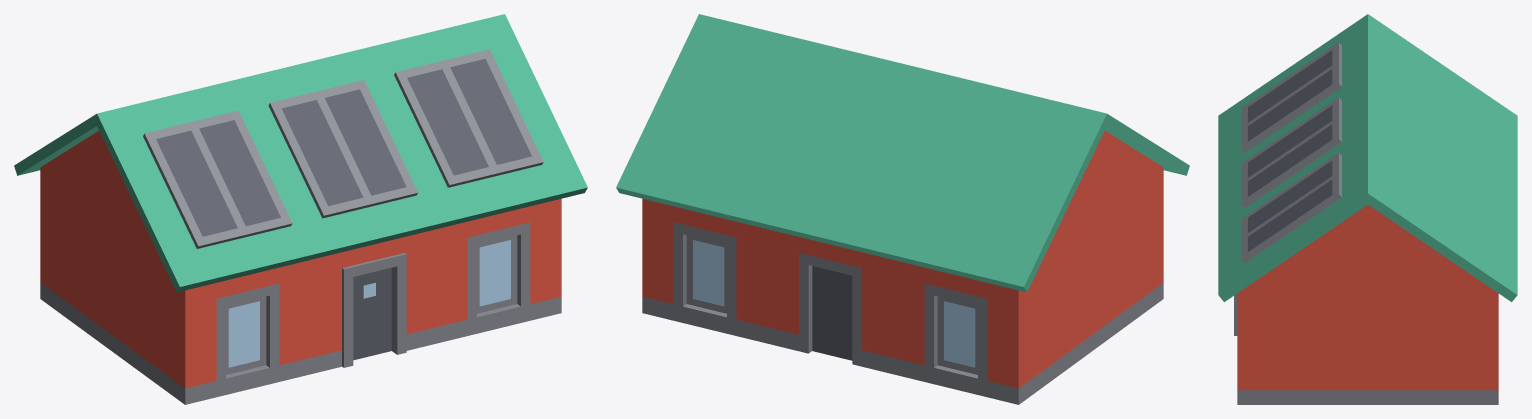
The model's file is House Type 01.glb.
3 renders of one model, left to right at view 1: azimuth 30°, elevation 25°; view 2: azimuth 150°, elevation 25°; view 3: azimuth 270°, elevation 25°, orthographic. The views are drawn at different scales.
Visible parts, largest first — view 1: house_type01; view 2: house_type01; view 3: house_type01.
Part boxes in pixels (x1,y1,x2,y2): house_type01: (14,14,587,404); house_type01: (616,14,1189,404); house_type01: (1218,14,1517,404).
Bounding box in the file's own units: 1.3 × 0.7375 × 0.916.
